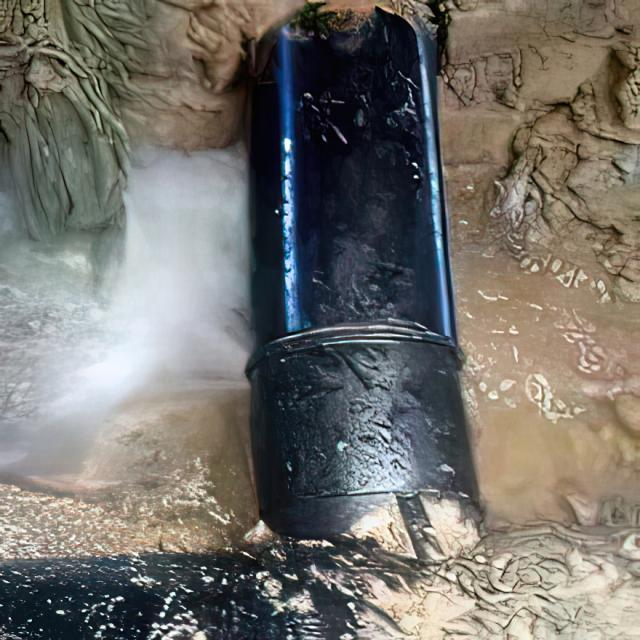leak: (24, 287, 258, 420)
